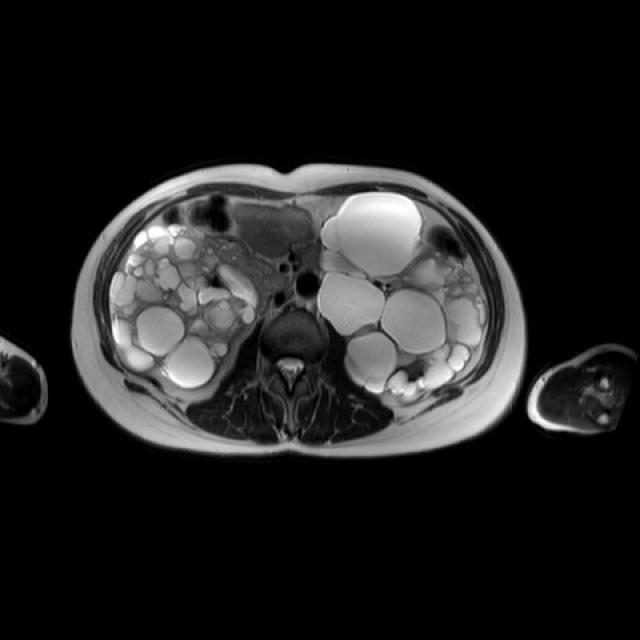sag: (109, 223, 262, 385)
sol: (319, 190, 485, 398)
